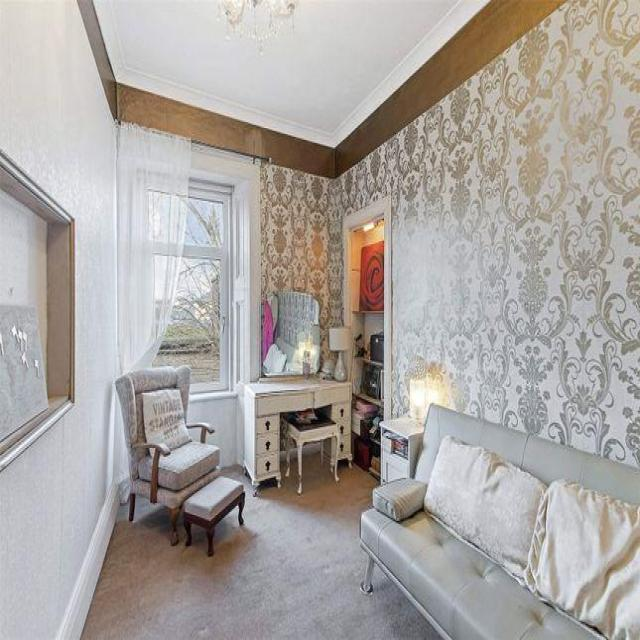Wall: (261, 0, 640, 466), (79, 0, 565, 177), (0, 0, 119, 638), (83, 454, 438, 639), (95, 0, 488, 145), (189, 397, 237, 467)
